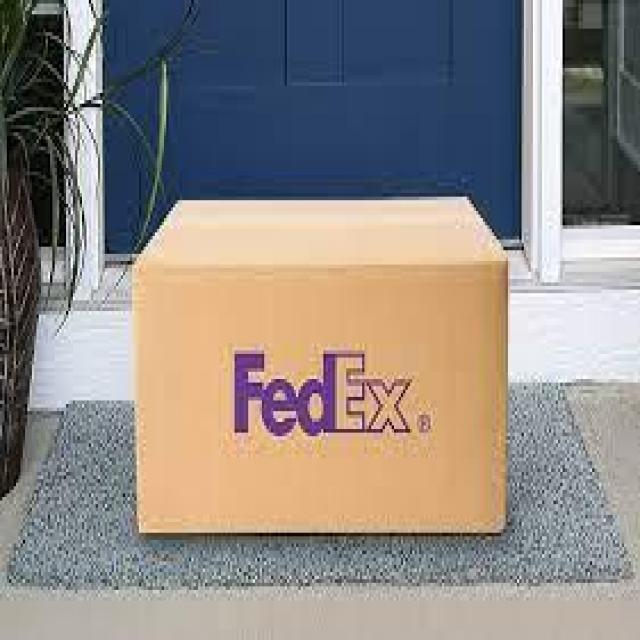box: (123, 184, 511, 542)
